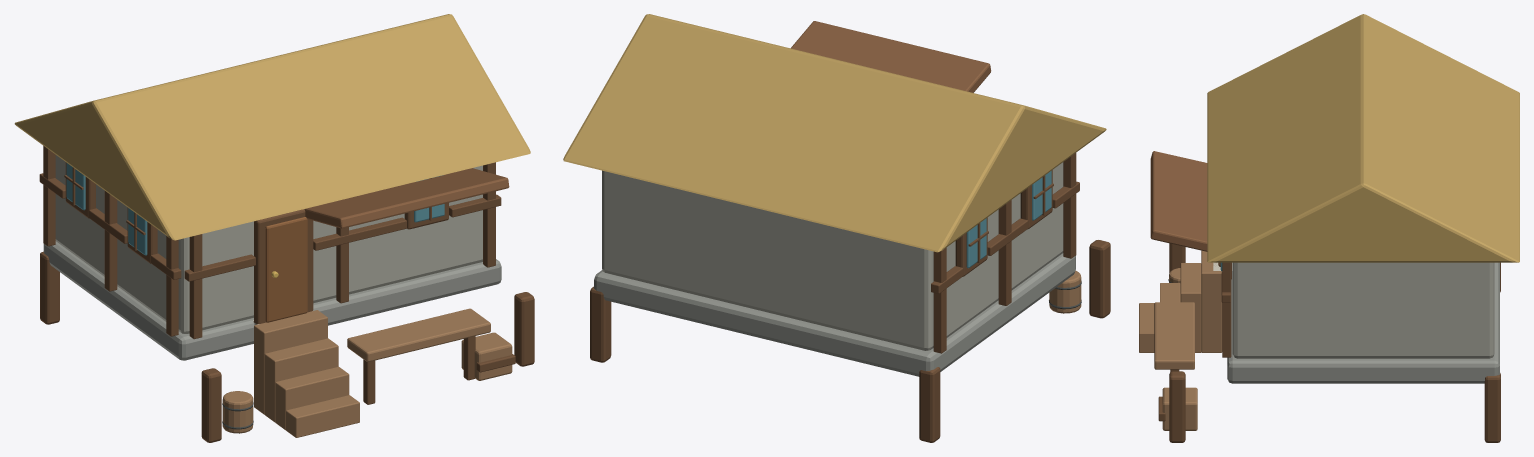
File: wetland-artisan-0.glb
3 views of the same model, side by side, from view 1: azimuth 30°, elevation 25°; view 2: azimuth 150°, elevation 25°; view 3: azimuth 270°, elevation 25° (orthographic). The views are drawn at different scales.
Parts seen in each view (by area): view 1: Golden thatch, Fieldstone, Dark beams, Aged oak, Foundation stone, Wood shingles, Door oak, Blue glass; view 2: Golden thatch, Fieldstone, Foundation stone, Dark beams, Wood shingles, Blue glass, Aged oak; view 3: Golden thatch, Fieldstone, Aged oak, Foundation stone, Wood shingles, Dark beams.
Boxes of the visible parts, x1,y1,x2,y2 form: Golden thatch: [14, 14, 530, 240]; Fieldstone: [55, 155, 482, 333]; Dark beams: [39, 146, 534, 442]; Aged oak: [222, 308, 512, 437]; Foundation stone: [43, 241, 501, 360]; Wood shingles: [304, 168, 509, 228]; Door oak: [265, 217, 307, 322]; Blue glass: [66, 163, 444, 255]; Golden thatch: [563, 14, 1106, 252]; Fieldstone: [602, 162, 1063, 350]; Foundation stone: [594, 253, 1075, 376]; Dark beams: [590, 153, 1110, 442]; Wood shingles: [791, 21, 991, 92]; Blue glass: [966, 171, 1051, 268]; Aged oak: [1049, 270, 1081, 313]; Golden thatch: [1207, 14, 1519, 262]; Fieldstone: [1232, 262, 1494, 358]; Aged oak: [1139, 250, 1222, 430]; Foundation stone: [1227, 262, 1499, 383]; Wood shingles: [1150, 151, 1207, 251]; Dark beams: [1158, 243, 1500, 442].
Bounding box in the file's own units: 4.5 × 3.27 × 4.22.
